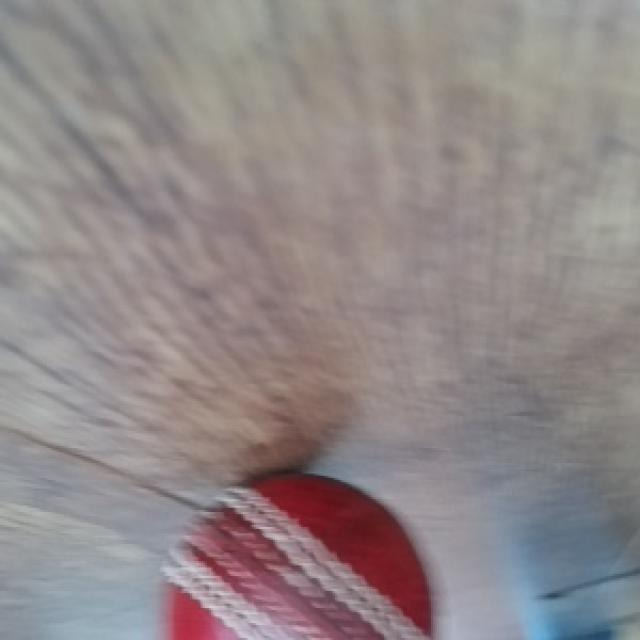ball: (158, 474, 435, 640)
